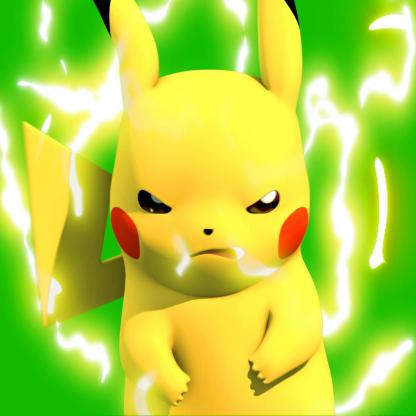Pikachu: (20, 1, 416, 416)
